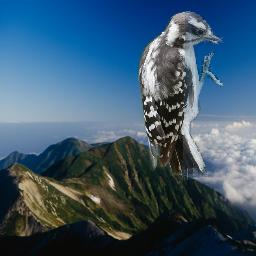Woodpecker: (138, 11, 224, 180)
